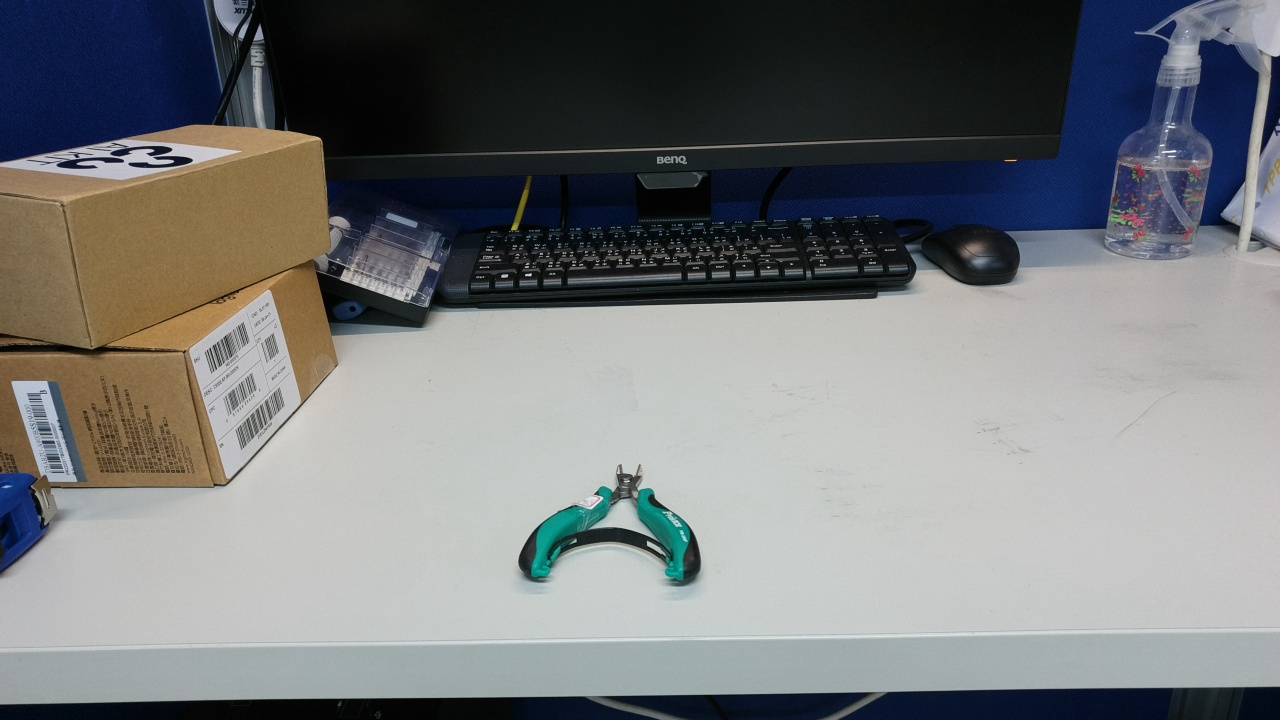columnar: (904, 189, 1136, 556)
